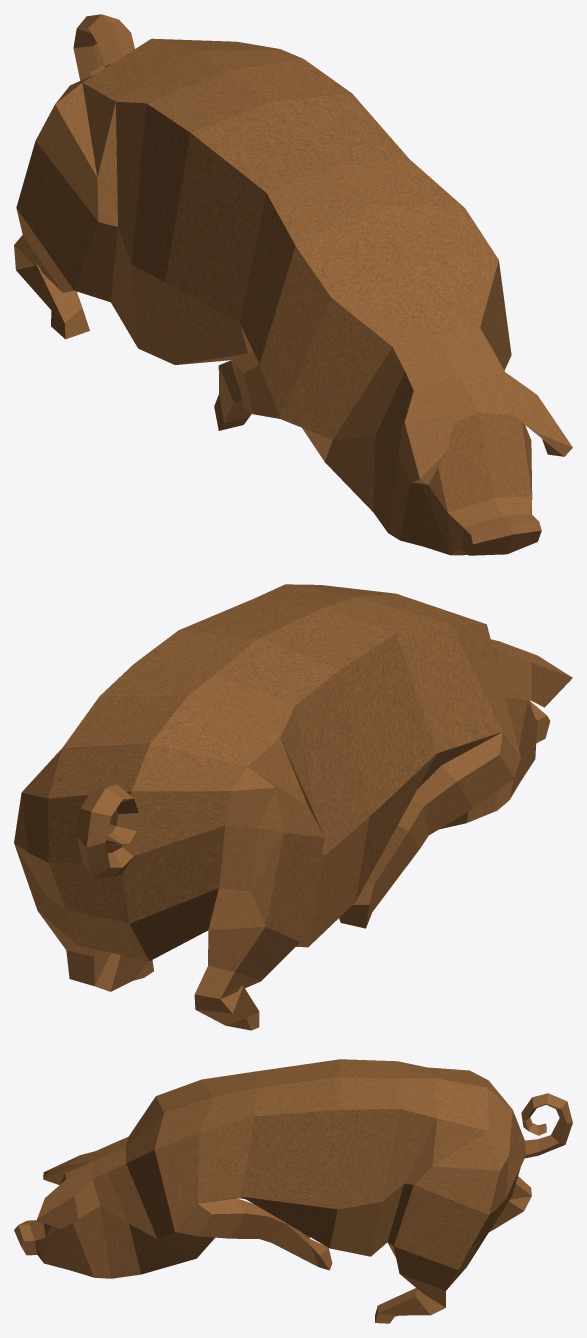
The model's file is Pig_000003.obj.
3 renders of one model, top to bottom at view 1: azimuth 30°, elevation 25°; view 2: azimuth 150°, elevation 25°; view 3: azimuth 270°, elevation 25°, orthographic. The views are drawn at different scales.
Visible parts, largest first — view 1: Pig_Cylinder; view 2: Pig_Cylinder; view 3: Pig_Cylinder.
Boxes of the visible parts, <box> form: Pig_Cylinder: <box>14,14,572,555</box>; Pig_Cylinder: <box>14,584,572,1030</box>; Pig_Cylinder: <box>14,1059,572,1323</box>.
Size of the model in its own units: 3.39 by 4.05 by 9.57.
1 material, 1 textured.
